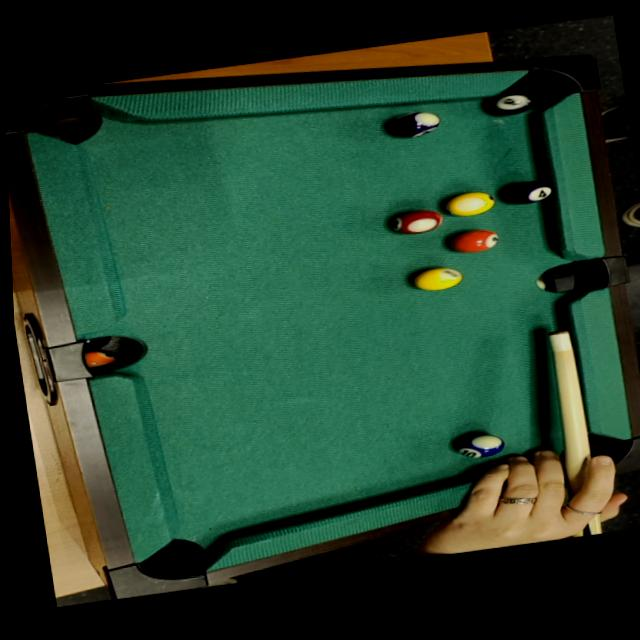other: (473, 86, 541, 122), (378, 106, 444, 142), (495, 175, 559, 209), (383, 207, 448, 239), (448, 429, 513, 461), (441, 225, 503, 258), (436, 190, 499, 221), (406, 263, 466, 295)
